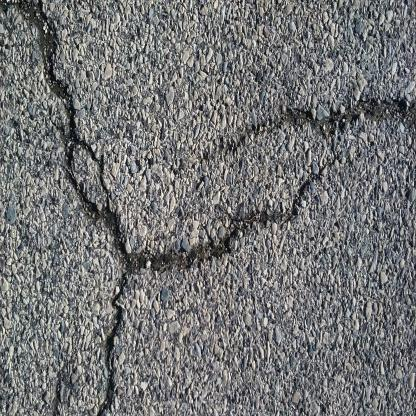Cracks: (1, 3, 132, 416), (127, 150, 344, 279), (213, 91, 416, 161)
